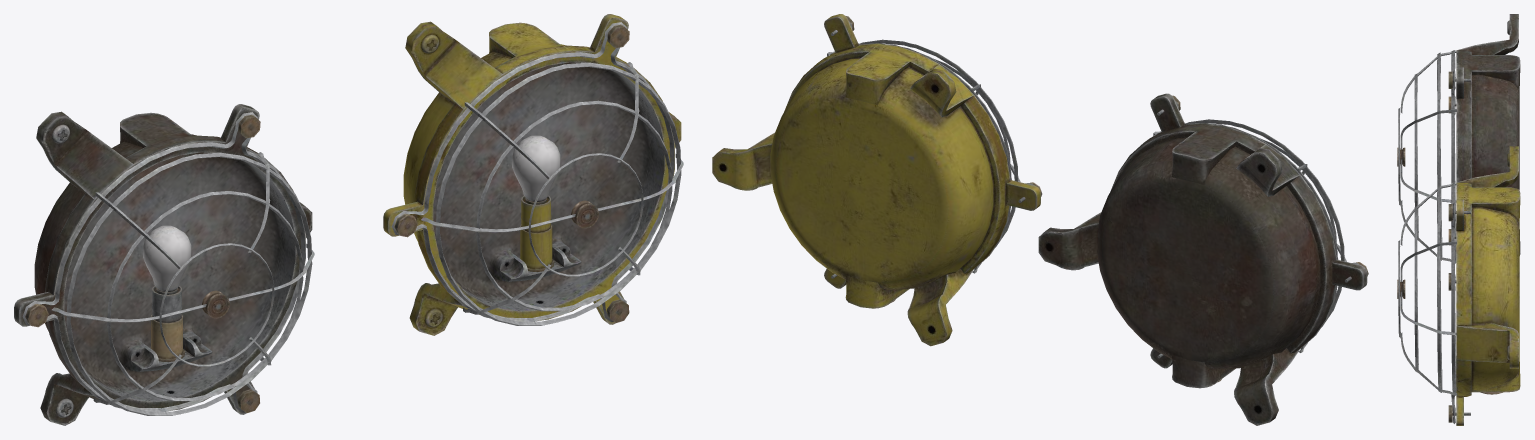
Rendered from lampadas_industriais.glb.
3 renders of one model, left to right at view 1: azimuth 30°, elevation 25°; view 2: azimuth 150°, elevation 25°; view 3: azimuth 270°, elevation 25°, orthographic. The views are drawn at different scales.
Parts seen in each view (by area): view 1: 1930s Heavy Industrial Wall Lamp Rusty_1/Object_6, 1930s Heavy Industrial Wall Lamp Painted Yellow_2/Object_8; view 2: 1930s Heavy Industrial Wall Lamp Rusty_1/Object_6, 1930s Heavy Industrial Wall Lamp Painted Yellow_2/Object_8; view 3: 1930s Heavy Industrial Wall Lamp Painted Yellow_2/Object_8, 1930s Heavy Industrial Wall Lamp Rusty_1/Object_6.
Part boxes in pixels (<box>): 1930s Heavy Industrial Wall Lamp Rusty_1/Object_6: <box>14,104,314,425</box>; 1930s Heavy Industrial Wall Lamp Painted Yellow_2/Object_8: <box>383,14,683,335</box>; 1930s Heavy Industrial Wall Lamp Rusty_1/Object_6: <box>1038,93,1368,425</box>; 1930s Heavy Industrial Wall Lamp Painted Yellow_2/Object_8: <box>712,14,1042,346</box>; 1930s Heavy Industrial Wall Lamp Painted Yellow_2/Object_8: <box>1397,146,1520,425</box>; 1930s Heavy Industrial Wall Lamp Rusty_1/Object_6: <box>1397,14,1520,290</box>.
Bounding box in the file's own units: 0.7629 × 0.3235 × 0.1584.
2 materials, 2 textured.
